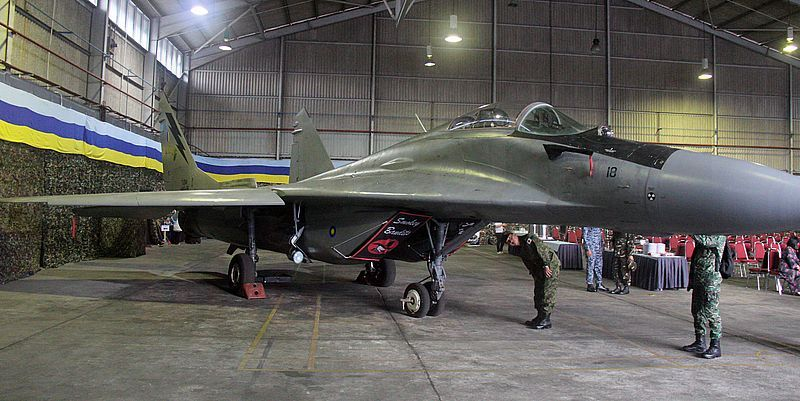Mig-29: (114, 14, 794, 334)
